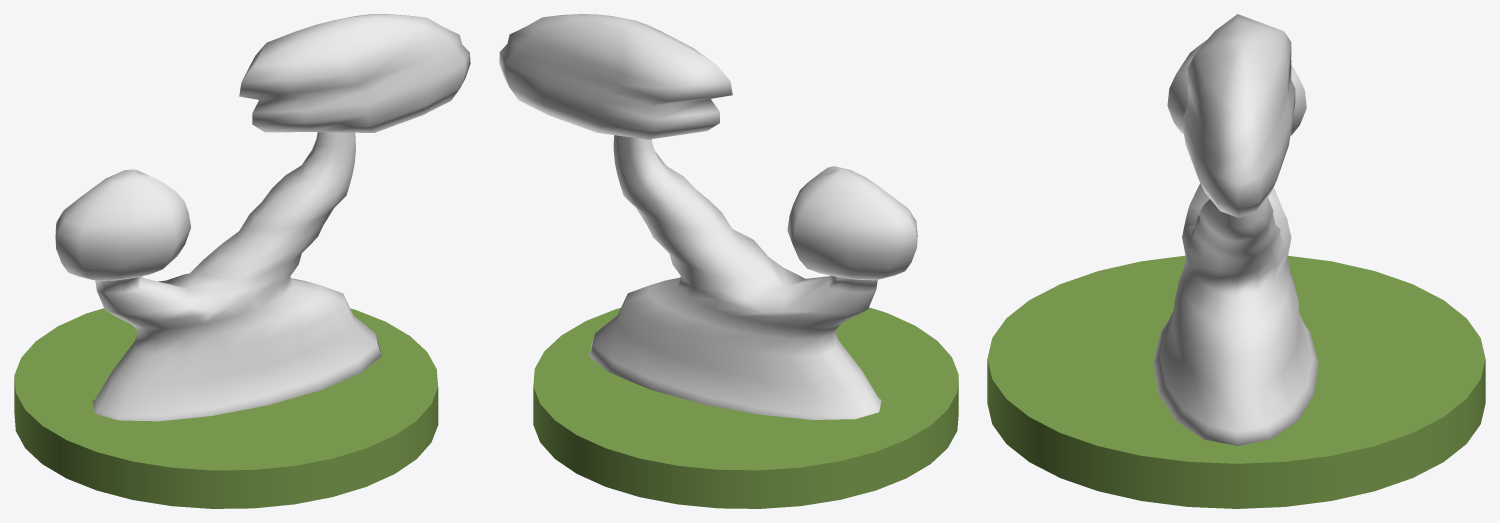
The model's file is bonsai_final.fbx.
The picture shows the model from 3 angles, left to right: view 1: azimuth 30°, elevation 25°; view 2: azimuth 150°, elevation 25°; view 3: azimuth 270°, elevation 25°; orthographic projection. The views are drawn at different scales.
Visible parts, largest first — view 1: Cylinder, Node; view 2: Cylinder, Node; view 3: Node, Cylinder.
Part boxes in pixels (left/top/right/bottom): Cylinder: left=55, top=14, right=470, bottom=421; Node: left=14, top=308, right=438, bottom=508; Cylinder: left=499, top=14, right=917, bottom=419; Node: left=533, top=307, right=958, bottom=508; Node: left=987, top=255, right=1485, bottom=508; Cylinder: left=1153, top=14, right=1318, bottom=445.
Bounding box in the file's own units: 233 × 192 × 200.
